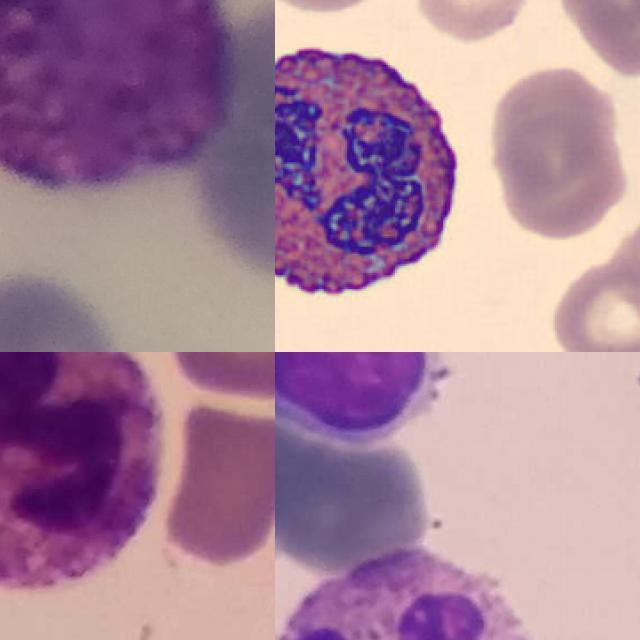Basophil: (0, 0, 240, 193)
Eosinophil: (275, 22, 480, 324)
Lymphocyte: (275, 352, 445, 442)
Neutrophil: (0, 352, 162, 592), (275, 551, 542, 640)
RBC: (484, 62, 621, 206), (546, 254, 640, 352), (551, 0, 640, 77), (411, 0, 537, 47)
